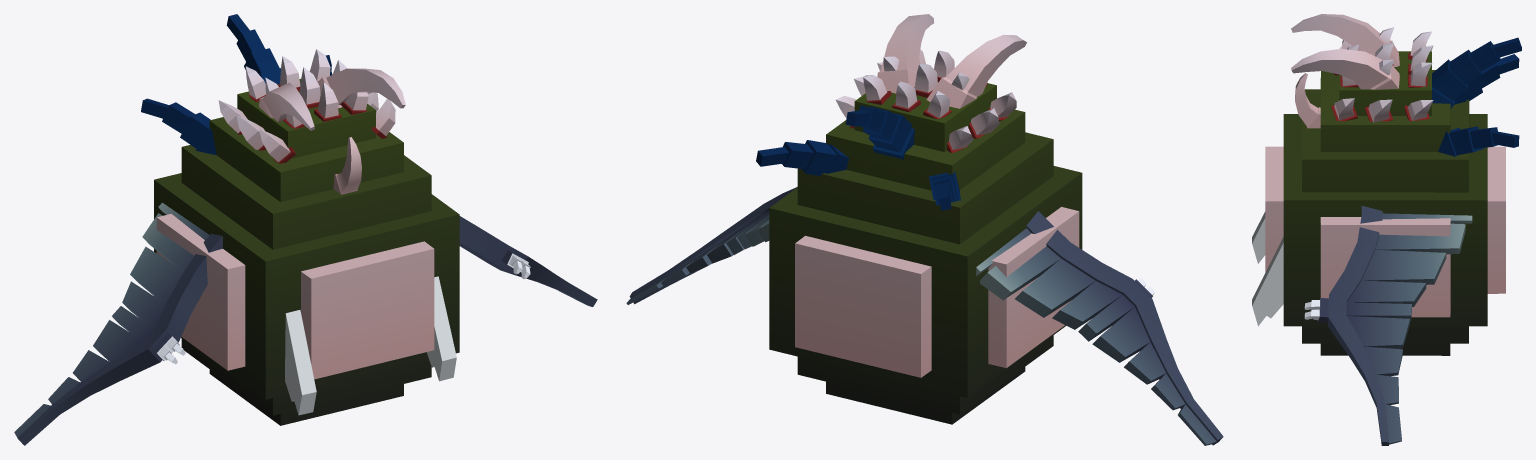
The model's file is Prehistoric_Egg.fbx.
The picture shows the model from 3 angles, left to right: view 1: azimuth 30°, elevation 25°; view 2: azimuth 150°, elevation 25°; view 3: azimuth 270°, elevation 25°; orthographic projection. The views are drawn at different scales.
Visible parts, largest first — view 1: Ankylosaurus_Egg, Pterodactyl_Egg, Mosasaurus_Egg, Triceratops_Egg; view 2: Ankylosaurus_Egg, Pterodactyl_Egg, Mosasaurus_Egg, Triceratops_Egg; view 3: Ankylosaurus_Egg, Pterodactyl_Egg, Mosasaurus_Egg, Triceratops_Egg.
Part boxes in pixels (x1=…): Ankylosaurus_Egg: x1=154, y1=49, x2=459, y2=425; Pterodactyl_Egg: x1=14, y1=202, x2=597, y2=445; Mosasaurus_Egg: x1=141, y1=14, x2=456, y2=415; Triceratops_Egg: x1=259, y1=68, x2=405, y2=194; Ankylosaurus_Egg: x1=769, y1=49, x2=1082, y2=424; Pterodactyl_Egg: x1=626, y1=187, x2=1223, y2=445; Mosasaurus_Egg: x1=756, y1=105, x2=960, y2=210; Triceratops_Egg: x1=877, y1=14, x2=1026, y2=108; Ankylosaurus_Egg: x1=1265, y1=27, x2=1505, y2=355; Pterodactyl_Egg: x1=1304, y1=206, x2=1472, y2=445; Mosasaurus_Egg: x1=1252, y1=37, x2=1521, y2=326; Triceratops_Egg: x1=1291, y1=14, x2=1399, y2=128.
Size of the model in its own units: 197 by 106 by 87.39.
